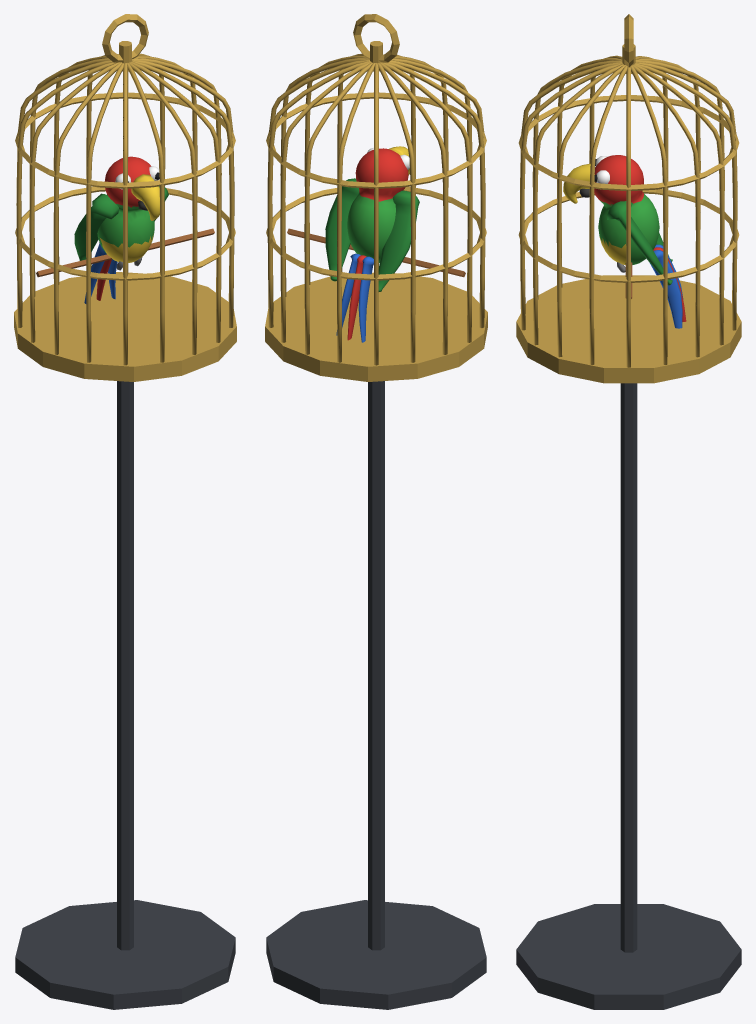
File: parrotCage.fbx
The picture shows the model from 3 angles, left to right: view 1: azimuth 30°, elevation 25°; view 2: azimuth 150°, elevation 25°; view 3: azimuth 270°, elevation 25°; orthographic projection.
Visible parts, largest first — view 1: parrotCage, parrot; view 2: parrotCage, parrot; view 3: parrotCage, parrot.
Boxes of the visible parts, box(x1,y1,x2,y2) form: parrotCage: box(14, 14, 236, 1009); parrot: box(74, 156, 168, 303); parrotCage: box(265, 14, 487, 1009); parrot: box(325, 146, 419, 342); parrotCage: box(516, 14, 741, 1009); parrot: box(563, 155, 686, 328).
Bounding box in the file's own units: 1.57 × 7.43 × 1.6.
